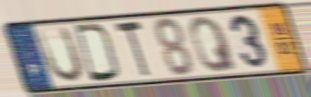3: (227, 13, 273, 71)
8: (154, 15, 197, 79)
D: (71, 22, 123, 84)
Q: (187, 14, 241, 74)
T: (112, 18, 153, 81)
U: (34, 25, 85, 85)
